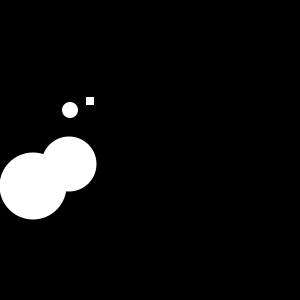circle: (86, 97, 94, 105)
rectangle: (0, 152, 66, 220), (42, 136, 96, 192), (62, 102, 78, 118)
